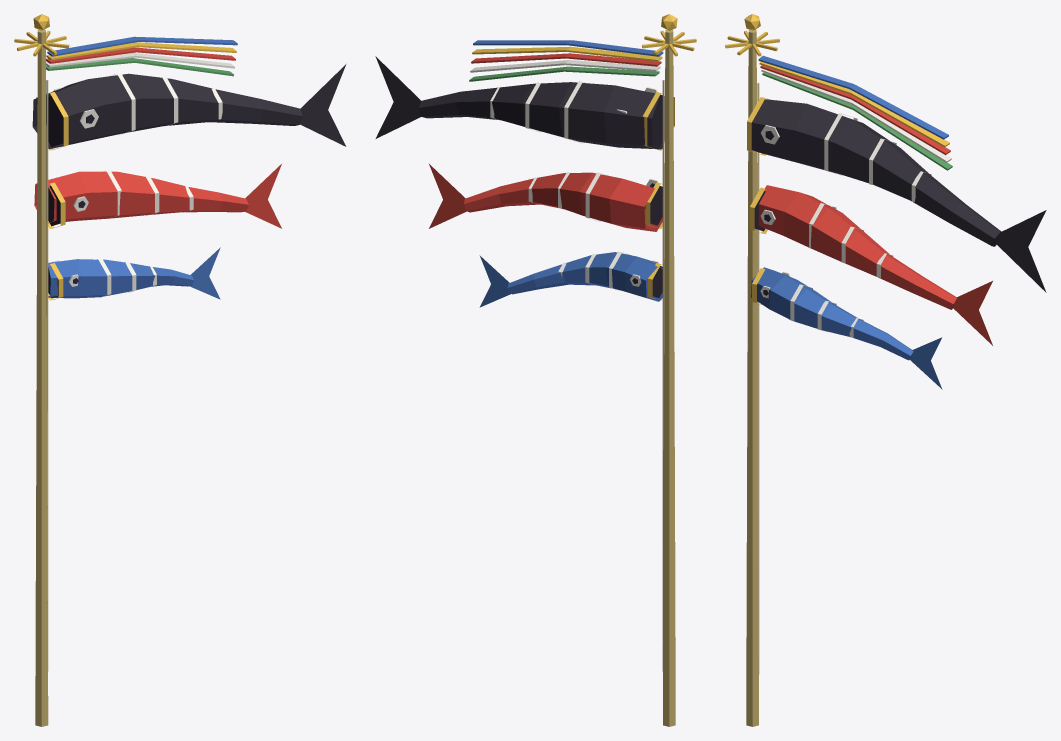
The model's file is koinobori.glb.
3 views of the same model, side by side, from view 1: azimuth 30°, elevation 25°; view 2: azimuth 150°, elevation 25°; view 3: azimuth 330°, elevation 25° (orthographic).
Parts seen in each view (by area): view 1: koinobori; view 2: koinobori; view 3: koinobori.
Boxes of the visible parts, x1=… form: koinobori: x1=14, y1=14, x2=346, y2=726; koinobori: x1=375, y1=14, x2=696, y2=726; koinobori: x1=725, y1=14, x2=1046, y2=726.
Bounding box in the file's own units: 4.01 × 8.4 × 0.7781.
